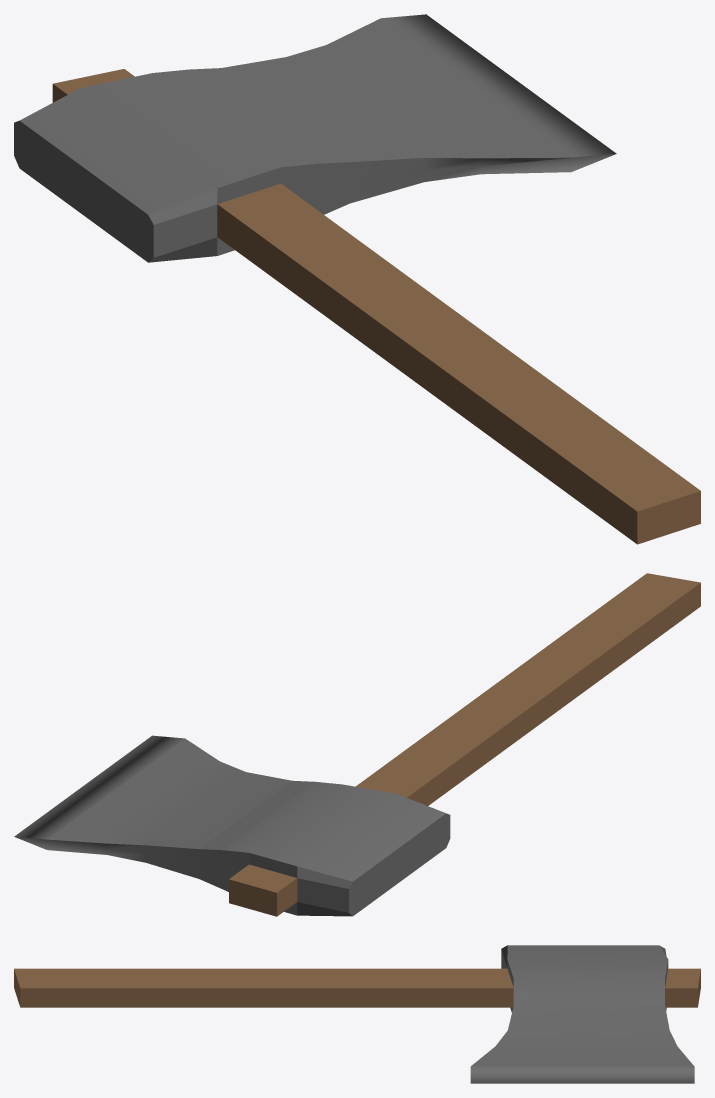
The model's file is Axe.fbx.
3 views of the same model, one above another, from view 1: azimuth 30°, elevation 25°; view 2: azimuth 150°, elevation 25°; view 3: azimuth 270°, elevation 25° (orthographic). The views are drawn at different scales.
Visible parts, largest first — view 1: pCube1; view 2: pCube1; view 3: pCube1.
Part boxes in pixels (bbox=[...]): pCube1: bbox=[14, 14, 700, 544]; pCube1: bbox=[14, 573, 700, 916]; pCube1: bbox=[14, 945, 700, 1083].
Size of the model in its own units: 0.0823 by 0.0122 by 0.1908.
